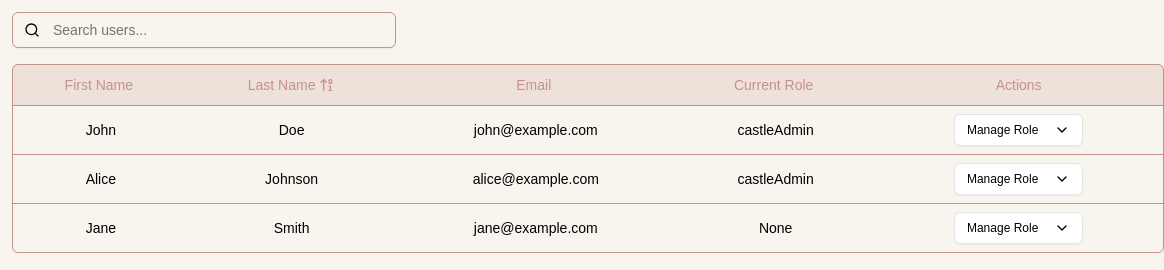
Test case: UsersTable › displays appropriate message when no users are found after filtering
The width and height of the screenshot is (1164, 270).
Type "NonExistentUser" into the field with placeholder "Search users..." at (204, 30), box [12, 12, 396, 48]
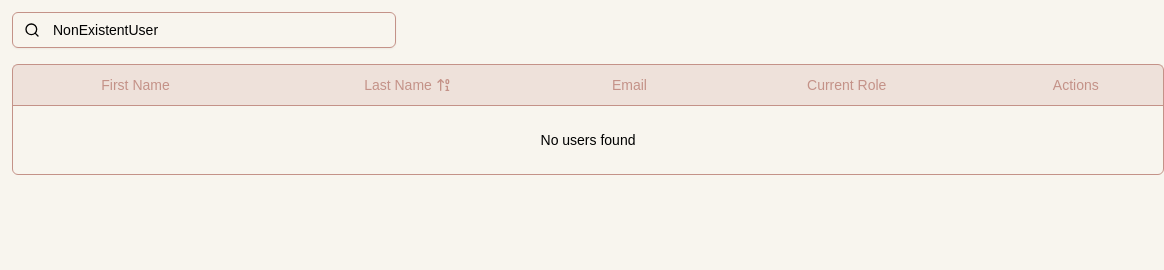
Result: the text "No users found" is shown at [13, 105, 1163, 174]
